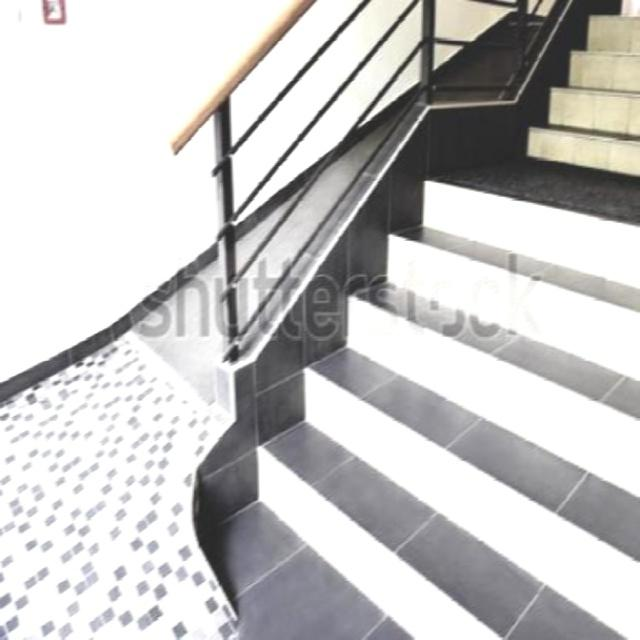stair: (229, 0, 640, 638)
